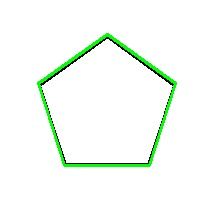line_segment: (38, 34, 177, 167)
